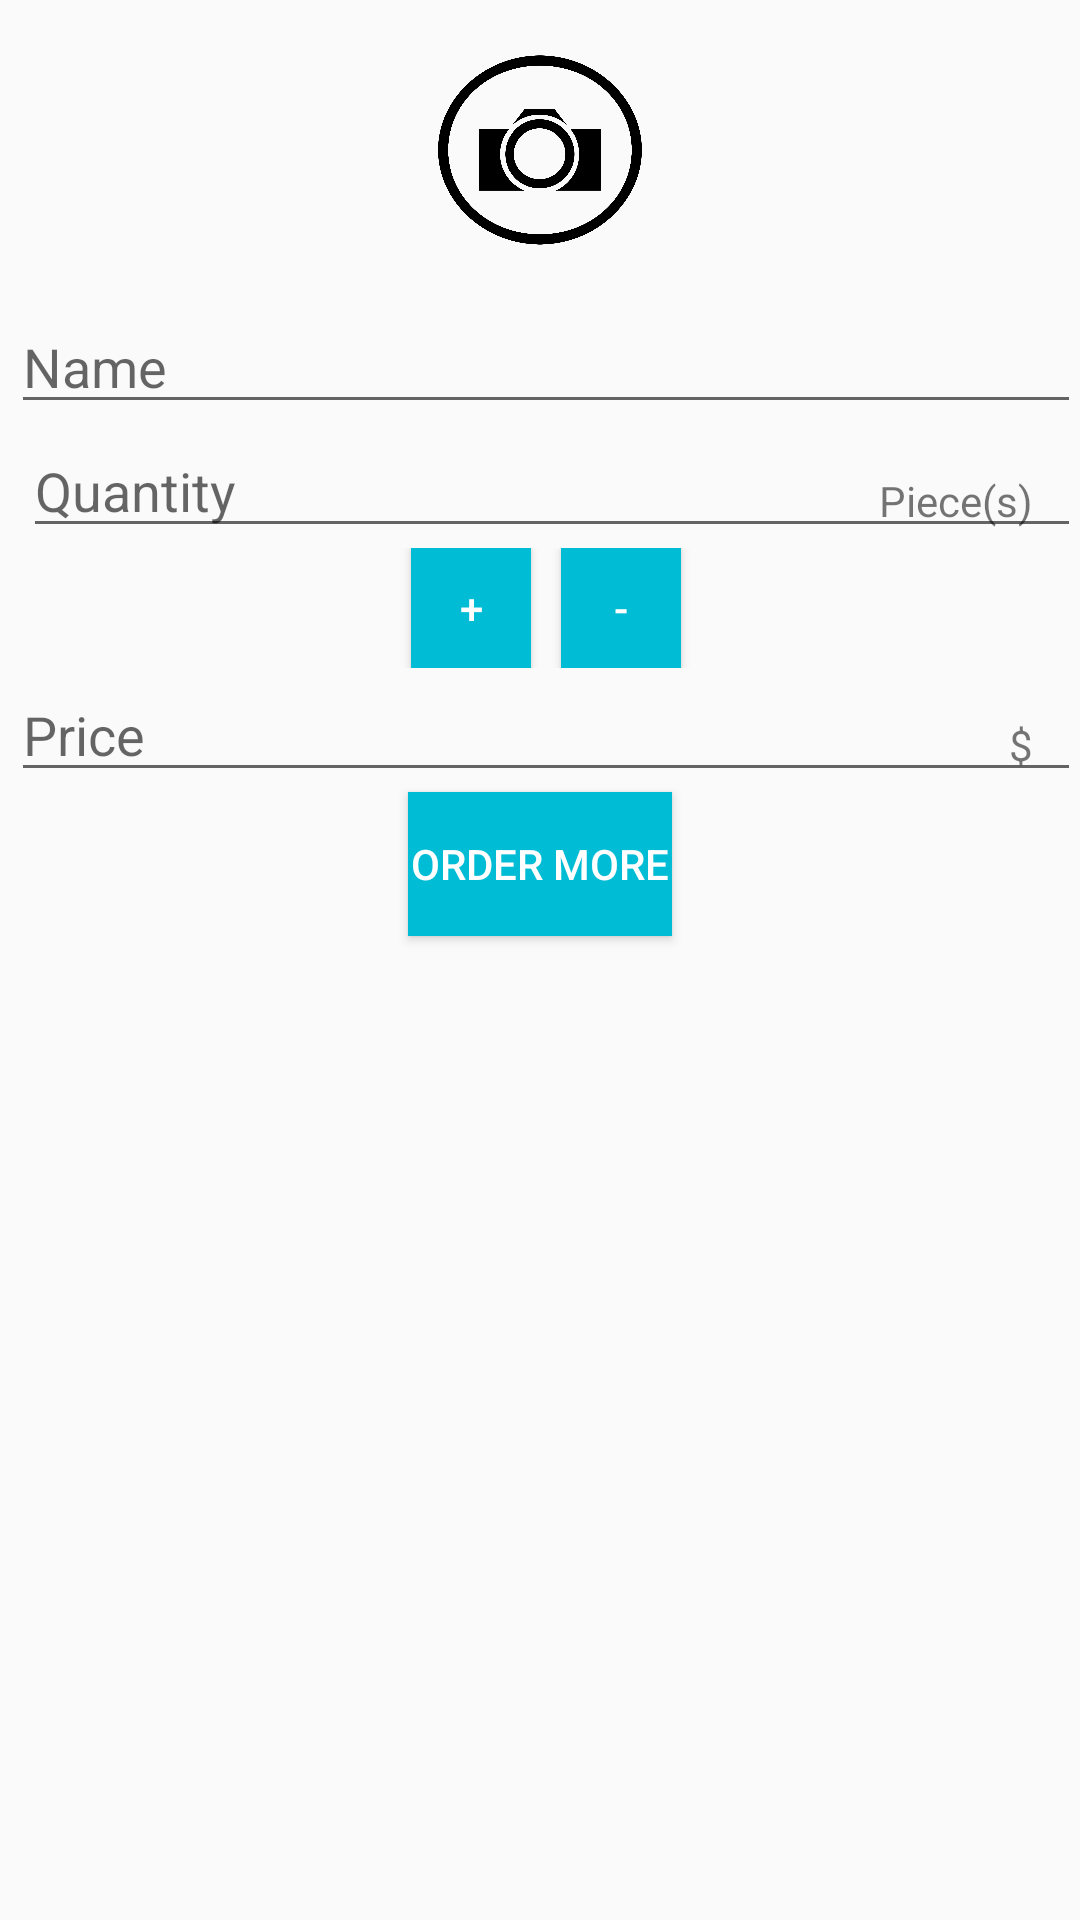

Screen size 1080px x 1920px. Icon name, then its box in pixels as (x1, y1, x2, y2):
camera: (438, 55, 642, 245)
